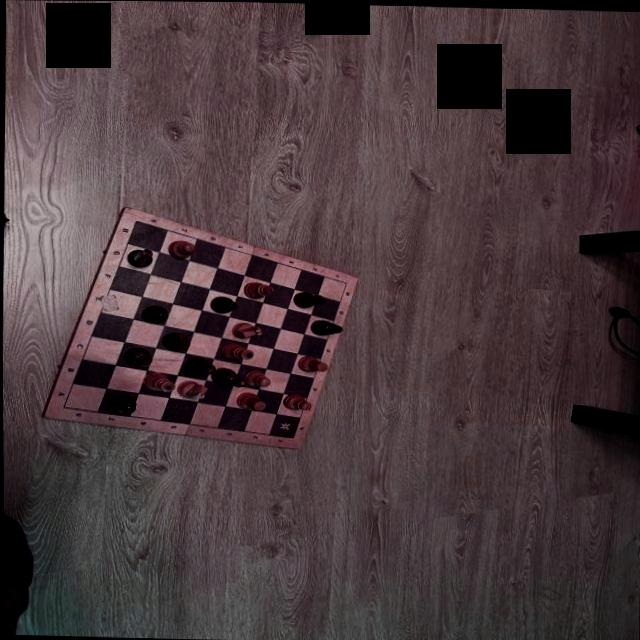chess-table-corners: (132, 217, 140, 222), (342, 279, 349, 284), (59, 404, 67, 408), (290, 434, 295, 438)
